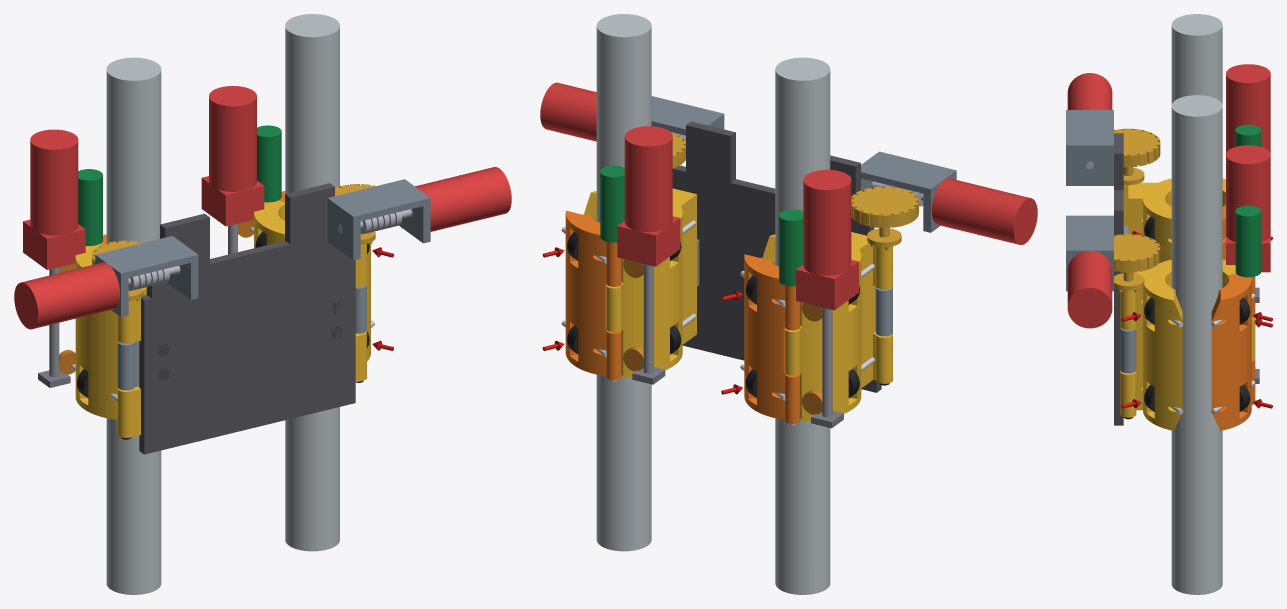
The model's file is sleeves_clamped.glb.
3 views of the same model, side by side, from view 1: azimuth 30°, elevation 25°; view 2: azimuth 150°, elevation 25°; view 3: azimuth 270°, elevation 25° (orthographic). The views are drawn at different scales.
Visible parts, largest first — view 1: base_plate, track_pipe_B, track_pipe_C, hand_B_drive_motor, hinge_B_worm_motor, hand_C_drive_motor, hinge_C_worm_bracket, hand_B_sleeve, hinge_C_worm_motor, hinge_B_worm_bracket, hand_C_gearbox, hinge_B_sleeve_leaf_knuckles (+9 smaller); view 2: track_pipe_C, track_pipe_B, base_plate, hand_C_sleeve, hand_B_sleeve, hand_C_jaw, hand_B_jaw, hand_B_drive_motor, hand_C_drive_motor, hinge_B_worm_motor, hinge_B_worm_wheel_hub, hinge_B_worm_bracket (+12 smaller); view 3: track_pipe_C, hand_C_sleeve, hand_C_jaw, track_pipe_B, hinge_B_worm_bracket, hand_C_drive_motor, hand_B_drive_motor, hinge_C_worm_motor, hand_B_sleeve, hinge_C_worm_wheel_hub, hinge_C_worm_bracket, base_plate (+11 smaller).
Boxes of the visible parts, x1=… form: base_plate: x1=139, y1=183, x2=355, y2=454; track_pipe_B: x1=106, y1=57, x2=161, y2=594; track_pipe_C: x1=285, y1=14, x2=339, y2=551; hand_B_drive_motor: x1=30, y1=129, x2=78, y2=235; hinge_B_worm_motor: x1=14, y1=262, x2=119, y2=329; hand_C_drive_motor: x1=209, y1=86, x2=256, y2=191; hinge_C_worm_bracket: x1=327, y1=179, x2=430, y2=260; hand_B_sleeve: x1=75, y1=244, x2=117, y2=419; hinge_C_worm_motor: x1=410, y1=167, x2=511, y2=231; hinge_B_worm_bracket: x1=95, y1=236, x2=198, y2=316; hand_C_gearbox: x1=201, y1=176, x2=264, y2=226; hinge_B_sleeve_leaf_knuckles: x1=117, y1=287, x2=146, y2=437; track_pipe_C: x1=596, y1=14, x2=651, y2=551; track_pipe_B: x1=775, y1=57, x2=830, y2=594; base_plate: x1=672, y1=121, x2=881, y2=392; hand_C_sleeve: x1=584, y1=191, x2=694, y2=377; hand_B_sleeve: x1=762, y1=234, x2=872, y2=420; hand_C_jaw: x1=565, y1=210, x2=621, y2=380; hand_B_jaw: x1=744, y1=254, x2=800, y2=423; hand_B_drive_motor: x1=803, y1=169, x2=851, y2=275; hand_C_drive_motor: x1=624, y1=126, x2=672, y2=232; hinge_B_worm_motor: x1=932, y1=178, x2=1037, y2=244; hinge_B_worm_wheel_hub: x1=851, y1=186, x2=918, y2=250; hinge_B_worm_bracket: x1=861, y1=151, x2=956, y2=232; track_pipe_C: x1=1171, y1=95, x2=1222, y2=594; hand_C_sleeve: x1=1133, y1=259, x2=1255, y2=430; hand_C_jaw: x1=1211, y1=274, x2=1255, y2=430; track_pipe_B: x1=1171, y1=14, x2=1222, y2=104; hinge_B_worm_bracket: x1=1066, y1=110, x2=1113, y2=185; hand_C_drive_motor: x1=1226, y1=145, x2=1270, y2=241; hand_B_drive_motor: x1=1226, y1=64, x2=1270, y2=153; hinge_C_worm_motor: x1=1067, y1=250, x2=1112, y2=328; hand_B_sleeve: x1=1133, y1=178, x2=1225, y2=263; hinge_C_worm_wheel_hub: x1=1114, y1=234, x2=1160, y2=292; hinge_C_worm_bracket: x1=1066, y1=215, x2=1113, y2=291; base_plate: x1=1114, y1=133, x2=1123, y2=425.
Bounding box in the file's own units: 318 × 330 × 129.
